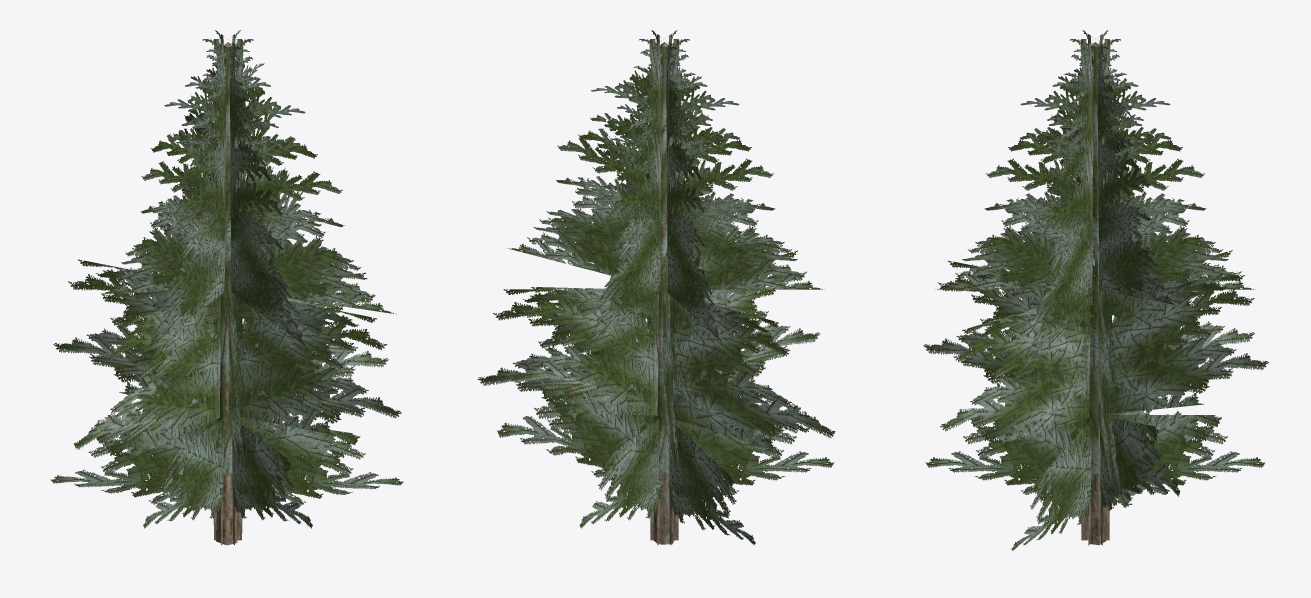
The model's file is pine-far.glb.
3 views of the same model, side by side, from view 1: azimuth 30°, elevation 25°; view 2: azimuth 150°, elevation 25°; view 3: azimuth 270°, elevation 25° (orthographic).
Parts seen in each view (by area): view 1: stklib_conifer_a_low.png__; view 2: stklib_conifer_a_low.png__; view 3: stklib_conifer_a_low.png__.
Part boxes in pixels (<box>): stklib_conifer_a_low.png__: <box>50,30,403,545</box>; stklib_conifer_a_low.png__: <box>477,30,835,545</box>; stklib_conifer_a_low.png__: <box>923,30,1268,550</box>.
Bounding box in the file's own units: 12.59 × 16.5 × 12.
Materials: 1 (1 with a texture image).
